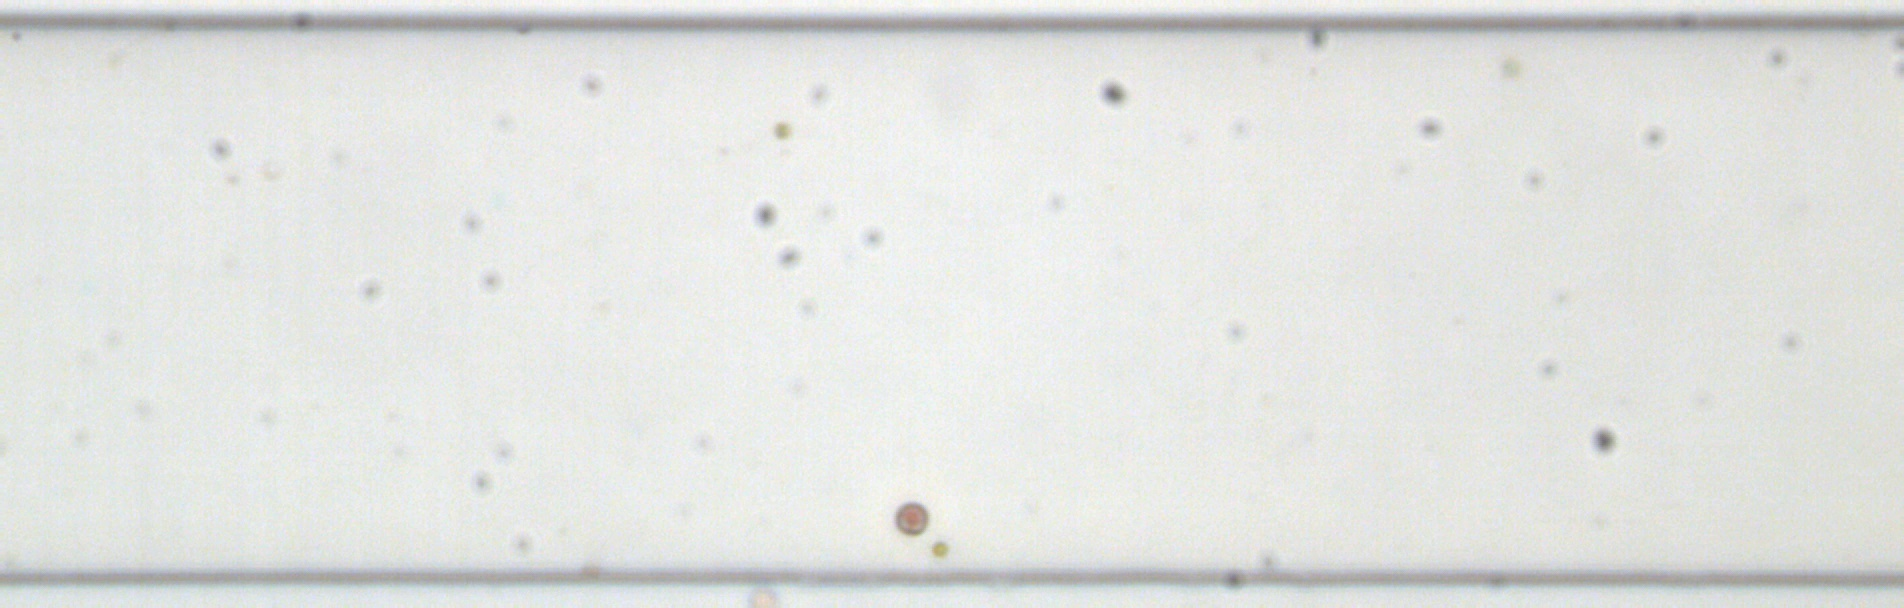Chlorella: (1498, 57, 1521, 79), (771, 119, 792, 140), (931, 539, 950, 557)
Porphyridium: (894, 498, 929, 536)
